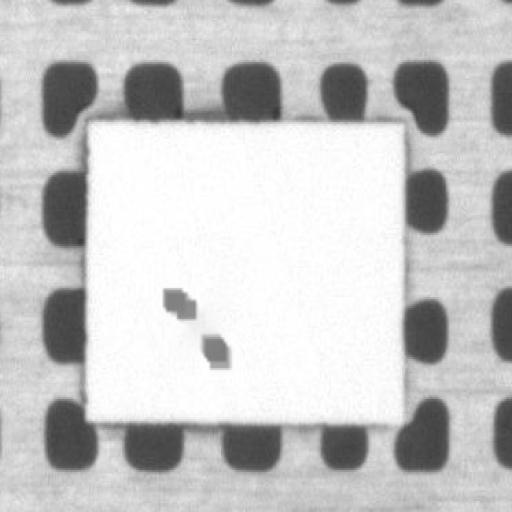DIE_INK: (158, 278, 195, 320), (200, 330, 230, 370)
